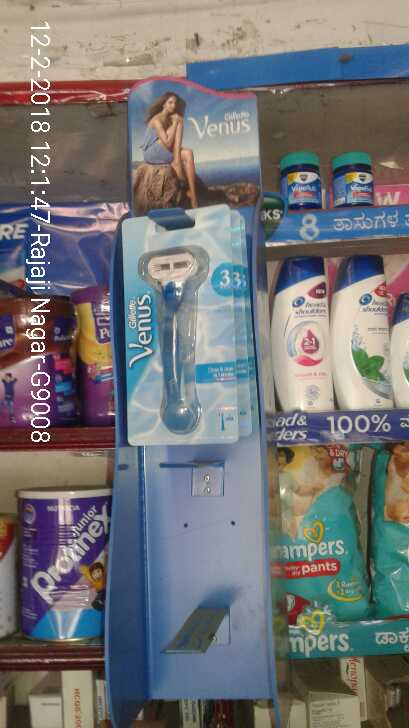beauty: (106, 201, 248, 453), (331, 250, 396, 417), (272, 255, 331, 419)
pharmacy: (256, 448, 367, 624), (324, 145, 377, 211), (275, 148, 324, 217)
